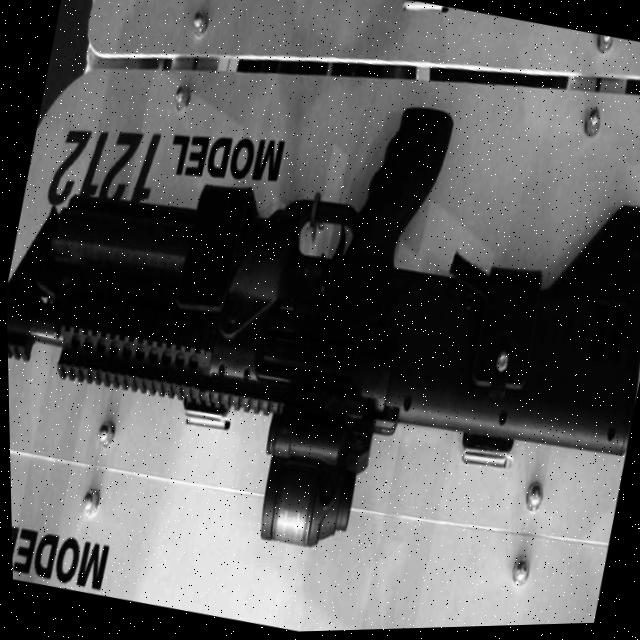firearm: (1, 25, 640, 621)
